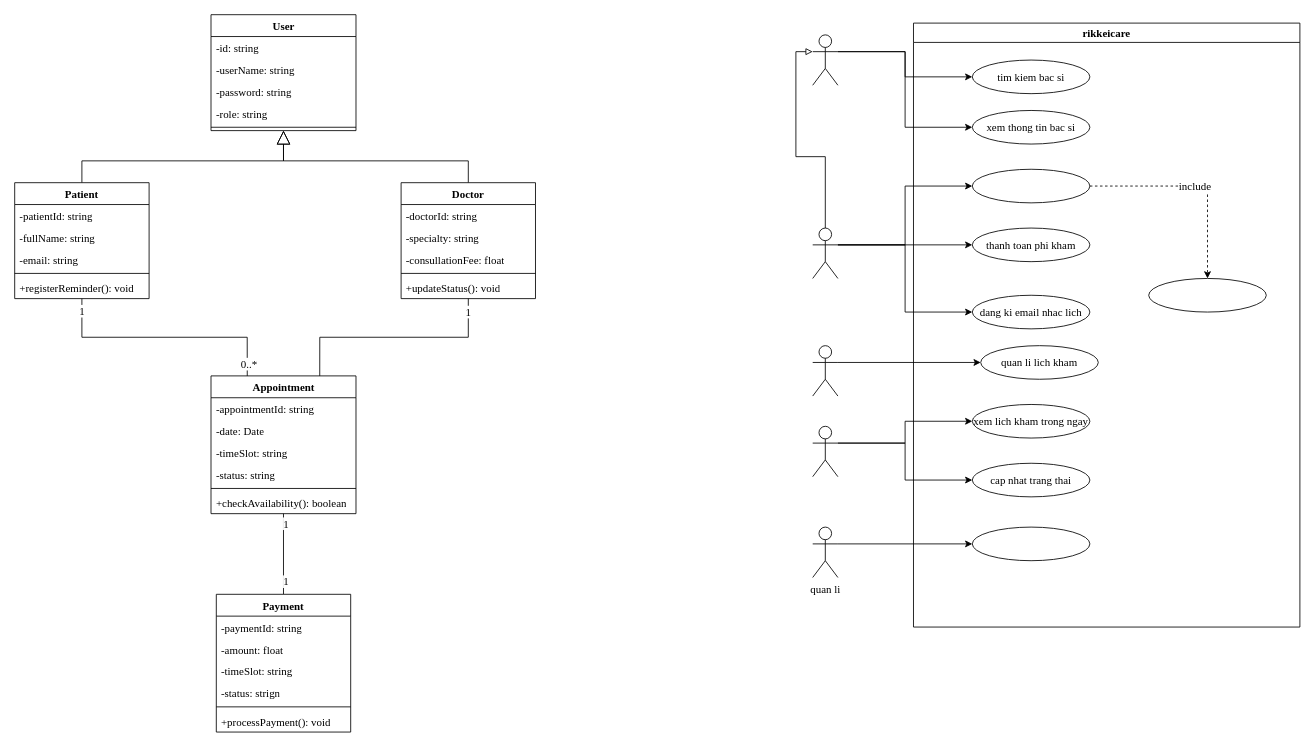
Some shapes in this 1315 by 749 pixel diagram are drawn without their labels. Each missing label, with the box of its shape:
bac si: (812, 425, 838, 477)
benh nhan: (812, 227, 838, 278)
dat lich kham: (971, 168, 1090, 203)
khach: (812, 34, 838, 85)
kiem tra lich trong: (1148, 278, 1266, 312)
le tan: (812, 345, 838, 396)
xem bao cao: (971, 526, 1090, 561)
